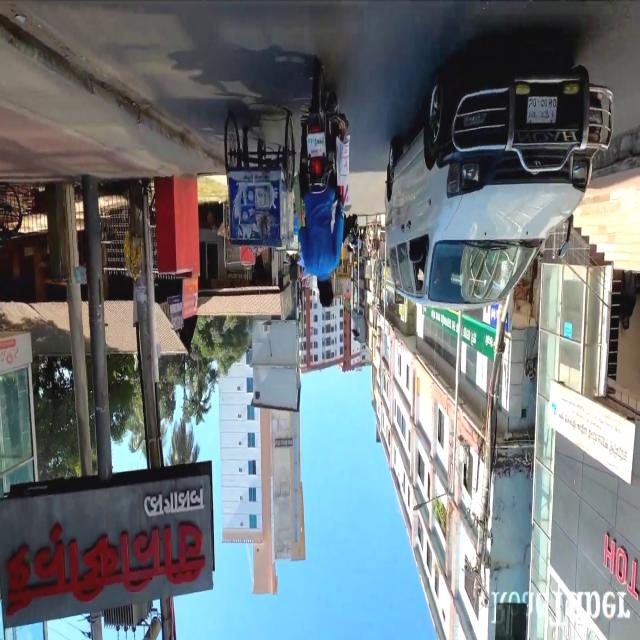white: (385, 62, 627, 309)
